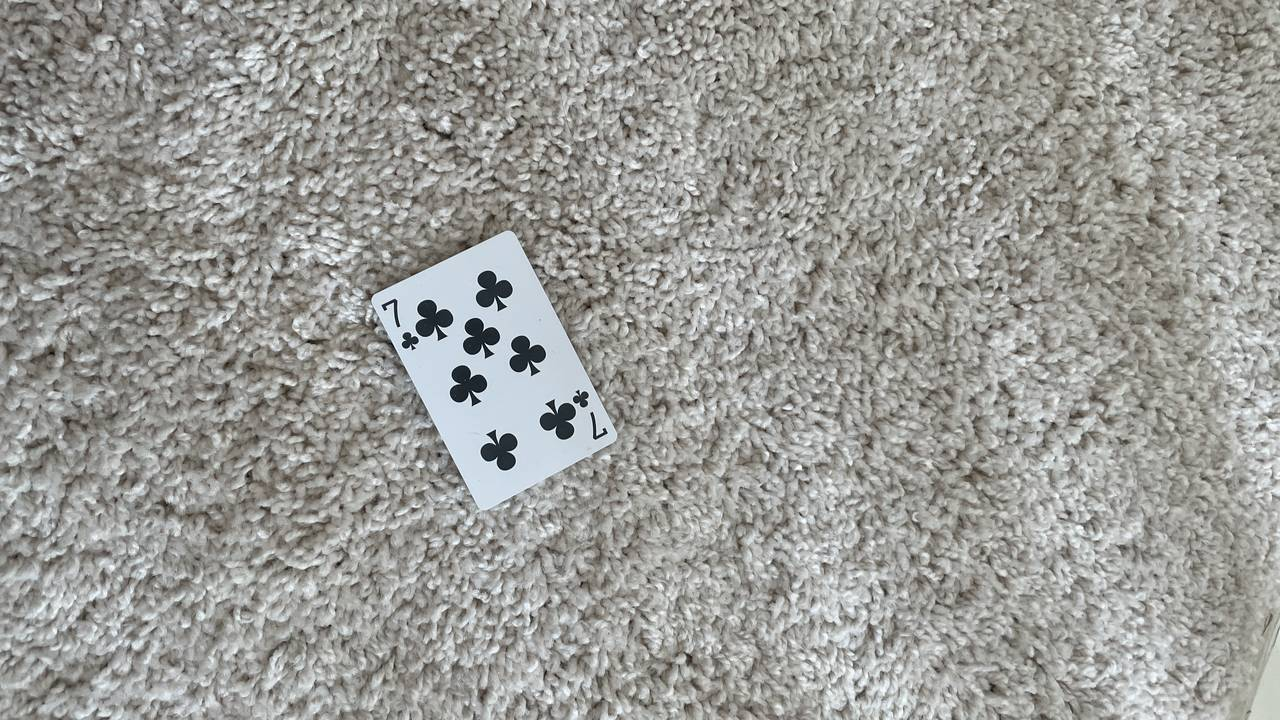seven: (382, 273, 608, 475)
